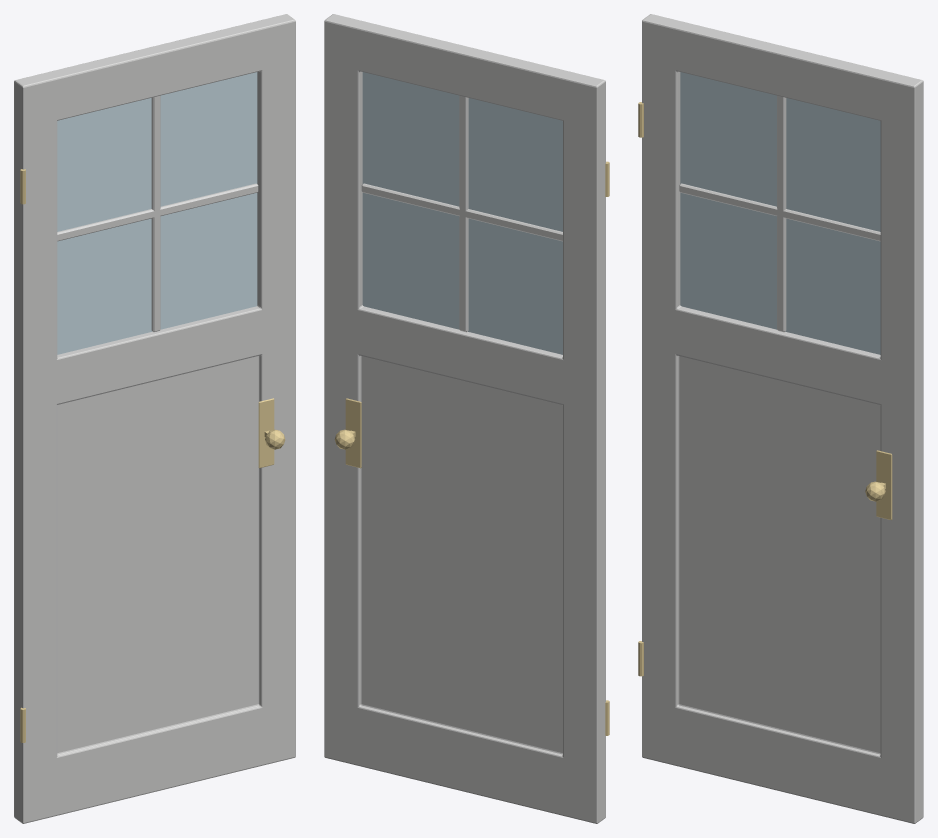
The model's file is door_leaf_back.glb.
The picture shows the model from 3 angles, left to right: view 1: azimuth 30°, elevation 25°; view 2: azimuth 150°, elevation 25°; view 3: azimuth 330°, elevation 25°; orthographic projection.
Visible parts, largest first — view 1: door_leaf_back_frame, door_leaf_back_glass, door_leaf_back_brass; view 2: door_leaf_back_frame, door_leaf_back_glass, door_leaf_back_brass; view 3: door_leaf_back_frame, door_leaf_back_glass, door_leaf_back_brass.
Part boxes in pixels (left/top/right/bottom): door_leaf_back_frame: left=14, top=14, right=295, bottom=823; door_leaf_back_glass: left=57, top=72, right=257, bottom=354; door_leaf_back_brass: left=20, top=169, right=285, bottom=742; door_leaf_back_frame: left=324, top=14, right=605, bottom=823; door_leaf_back_glass: left=362, top=72, right=562, bottom=354; door_leaf_back_brass: left=334, top=161, right=609, bottom=735; door_leaf_back_frame: left=642, top=14, right=923, bottom=823; door_leaf_back_glass: left=680, top=72, right=880, bottom=354; door_leaf_back_brass: left=638, top=102, right=892, bottom=676.
Size of the model in its own units: 0.868 by 2.22 by 0.206.
